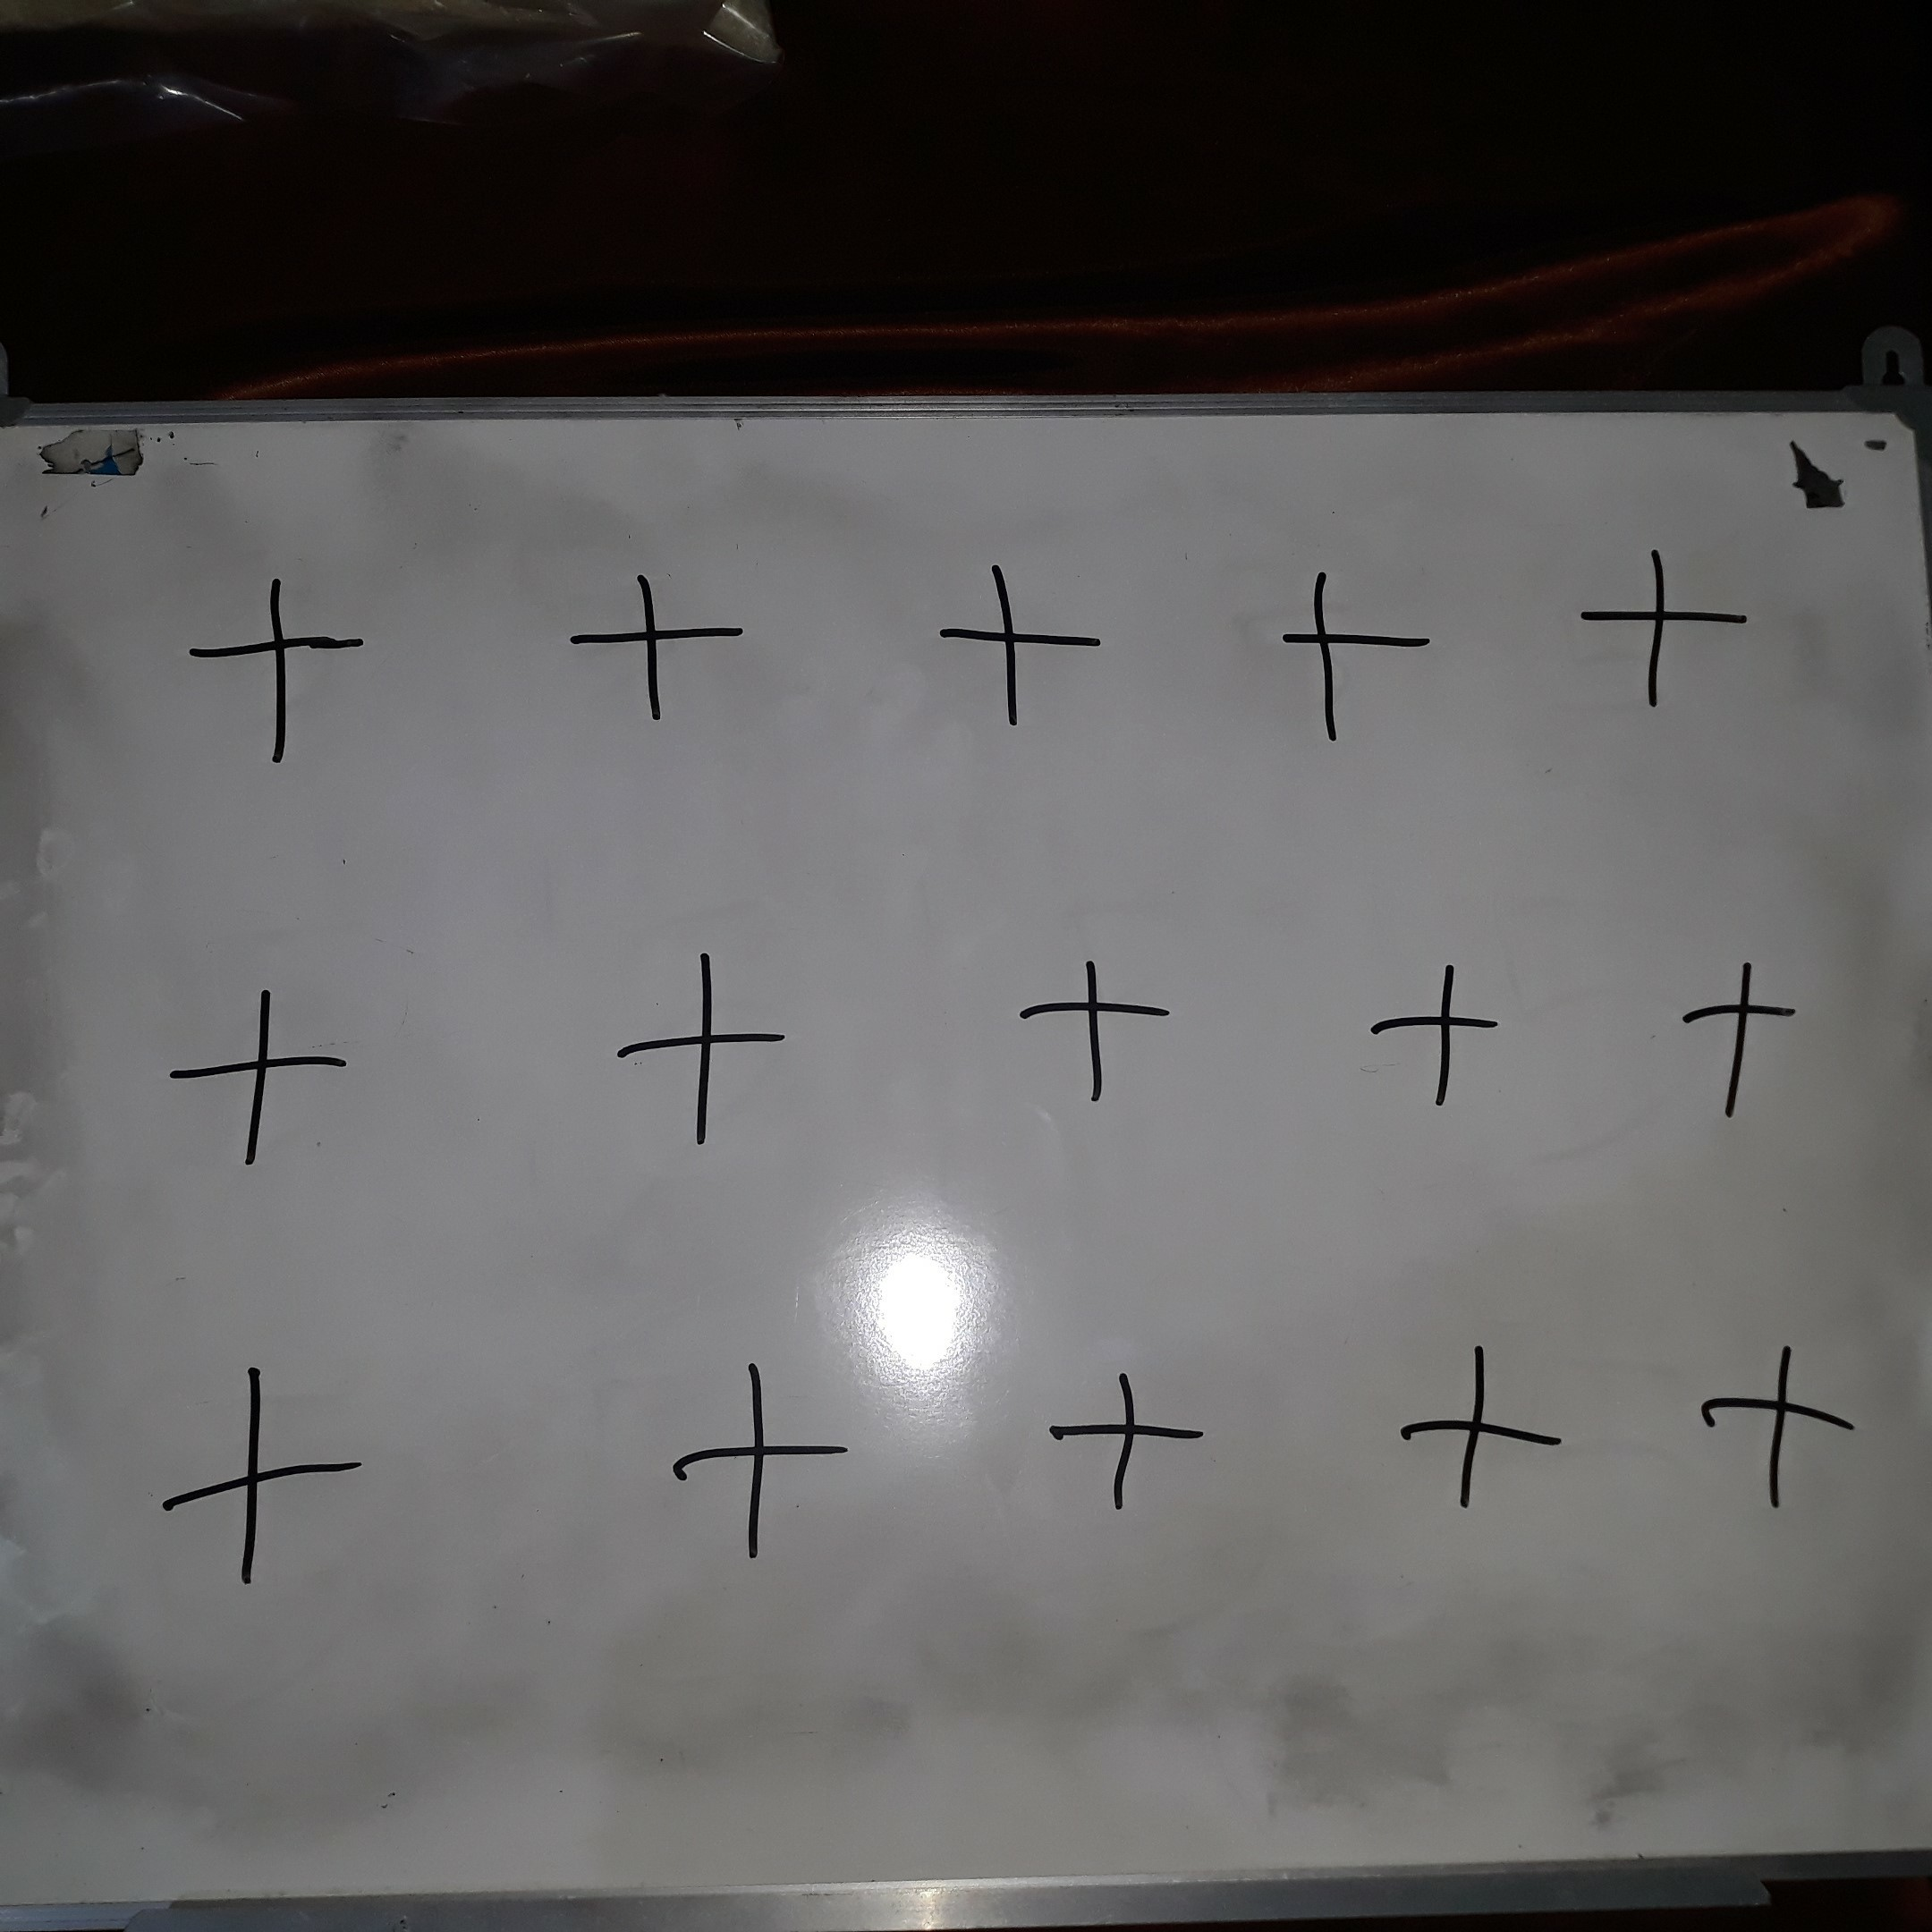sum: (140, 1352, 378, 1596), (651, 1337, 867, 1563), (147, 973, 377, 1182), (592, 935, 801, 1152), (174, 569, 394, 770), (1681, 1313, 1875, 1532), (1563, 524, 1773, 711), (1381, 1337, 1567, 1535), (555, 550, 758, 727), (925, 555, 1116, 741), (1262, 552, 1439, 752), (1004, 935, 1191, 1121), (1028, 1353, 1224, 1529), (1651, 953, 1811, 1128), (1353, 941, 1513, 1115)
